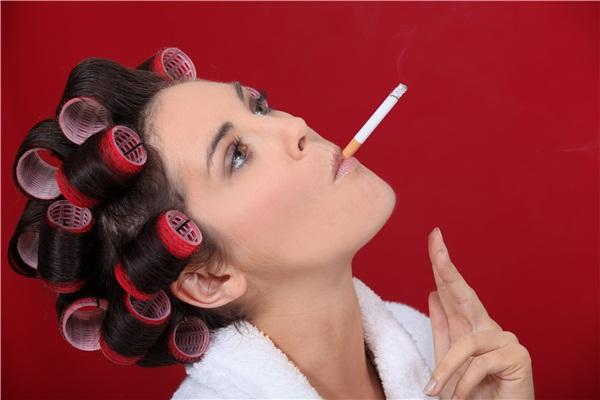smoke: (340, 82, 410, 162)
